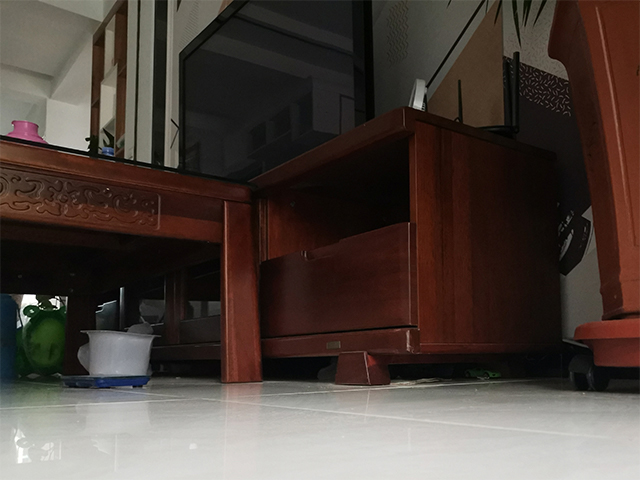cabinet: (263, 108, 542, 387)
table: (1, 134, 266, 385)
